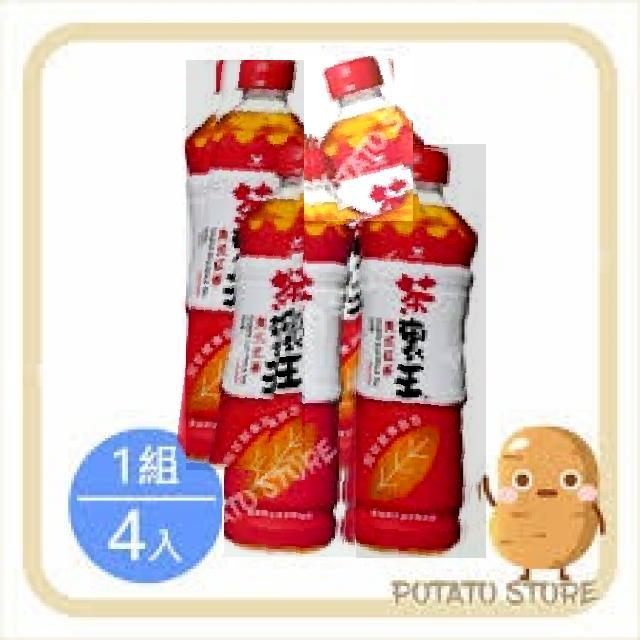ChaLiWong_BlackTea: (224, 142, 364, 558), (356, 144, 486, 558), (186, 60, 305, 470), (304, 56, 413, 221)
